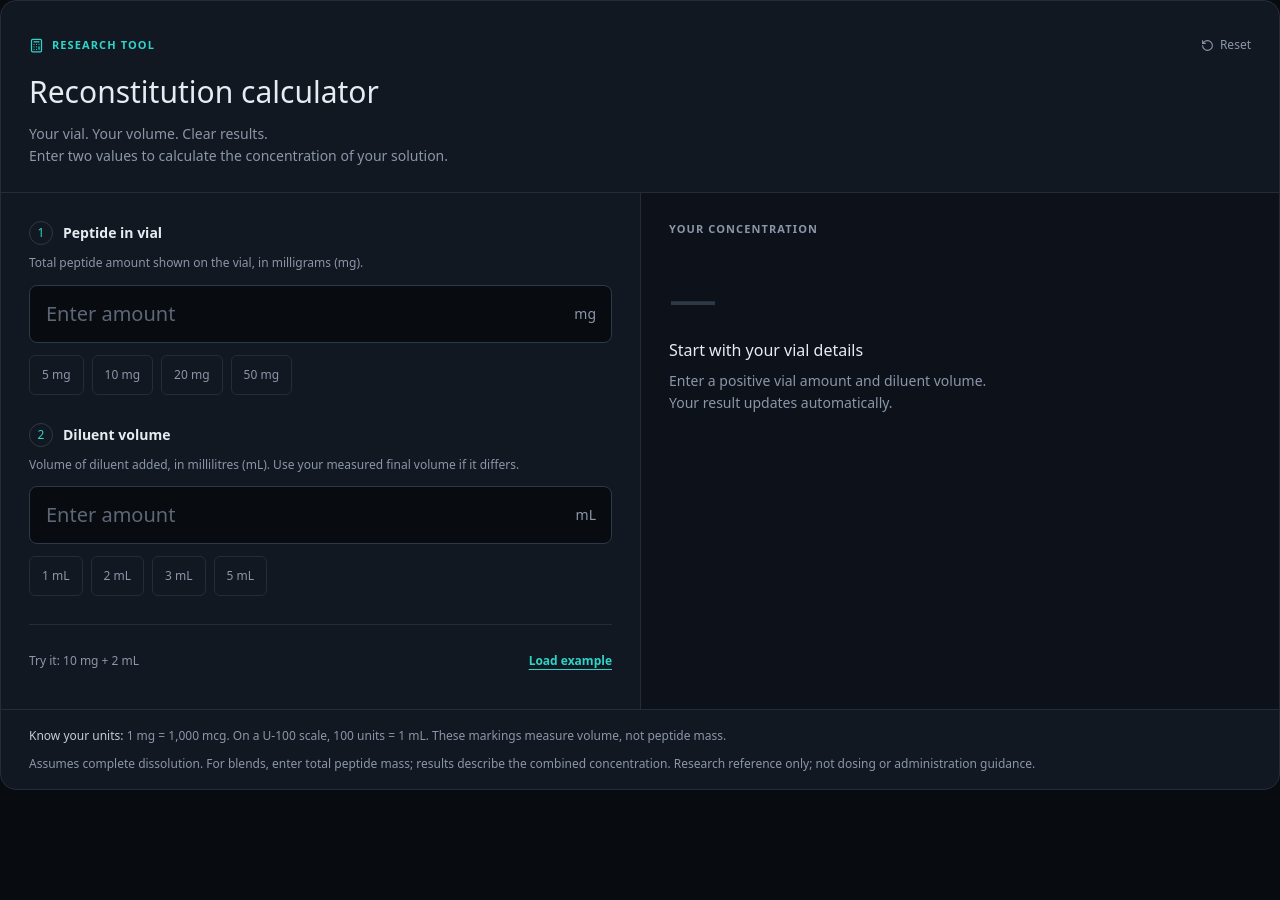
Scenario: loads the labelled example, supports presets, and resets every input
Click the button "Load example": (570, 661) [529,641,612,681]
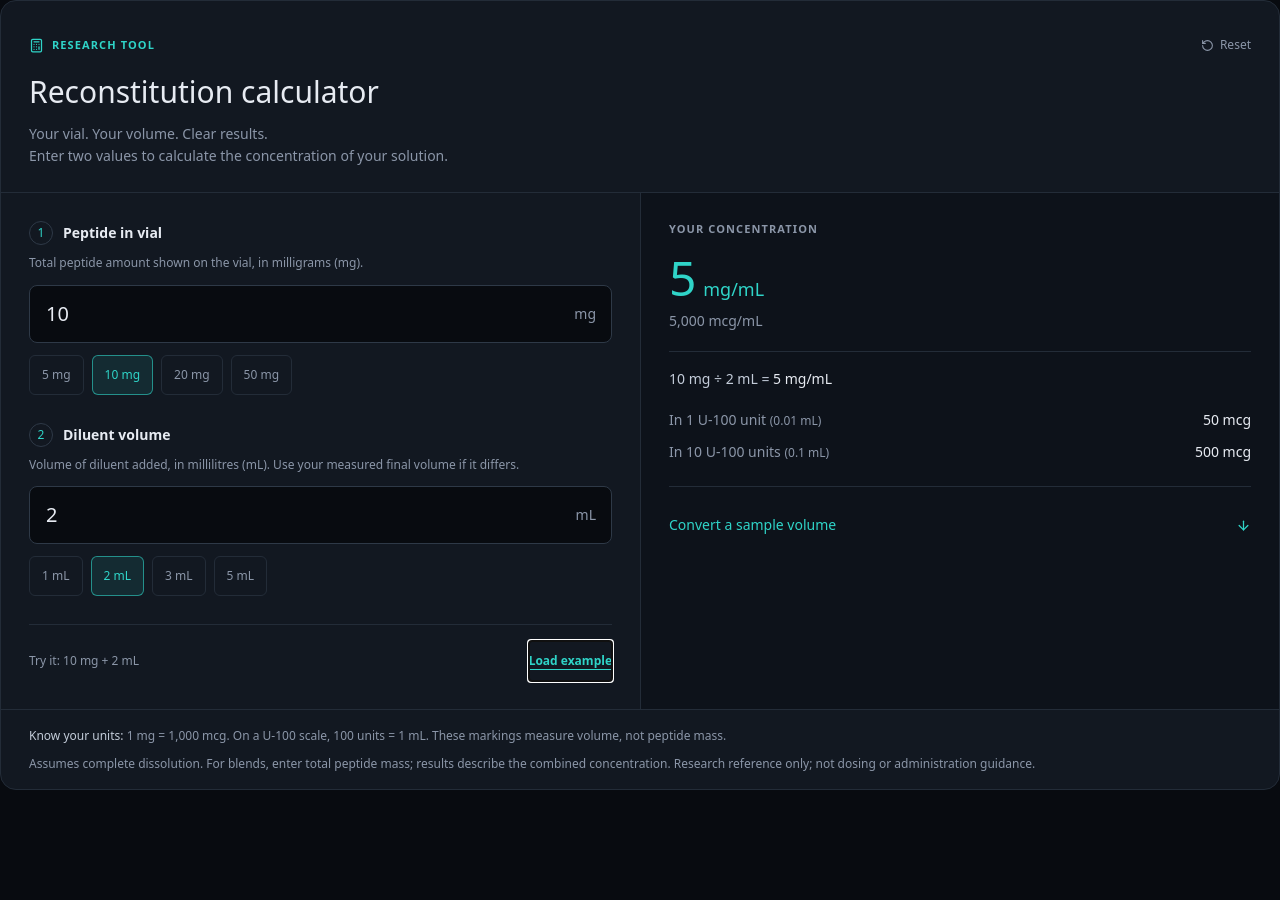
expect the element named "Concentration result" reads "5 mg/mL": met, box [669,244,764,310]
Click the button "5 mg": (56, 374) [29,354,84,394]
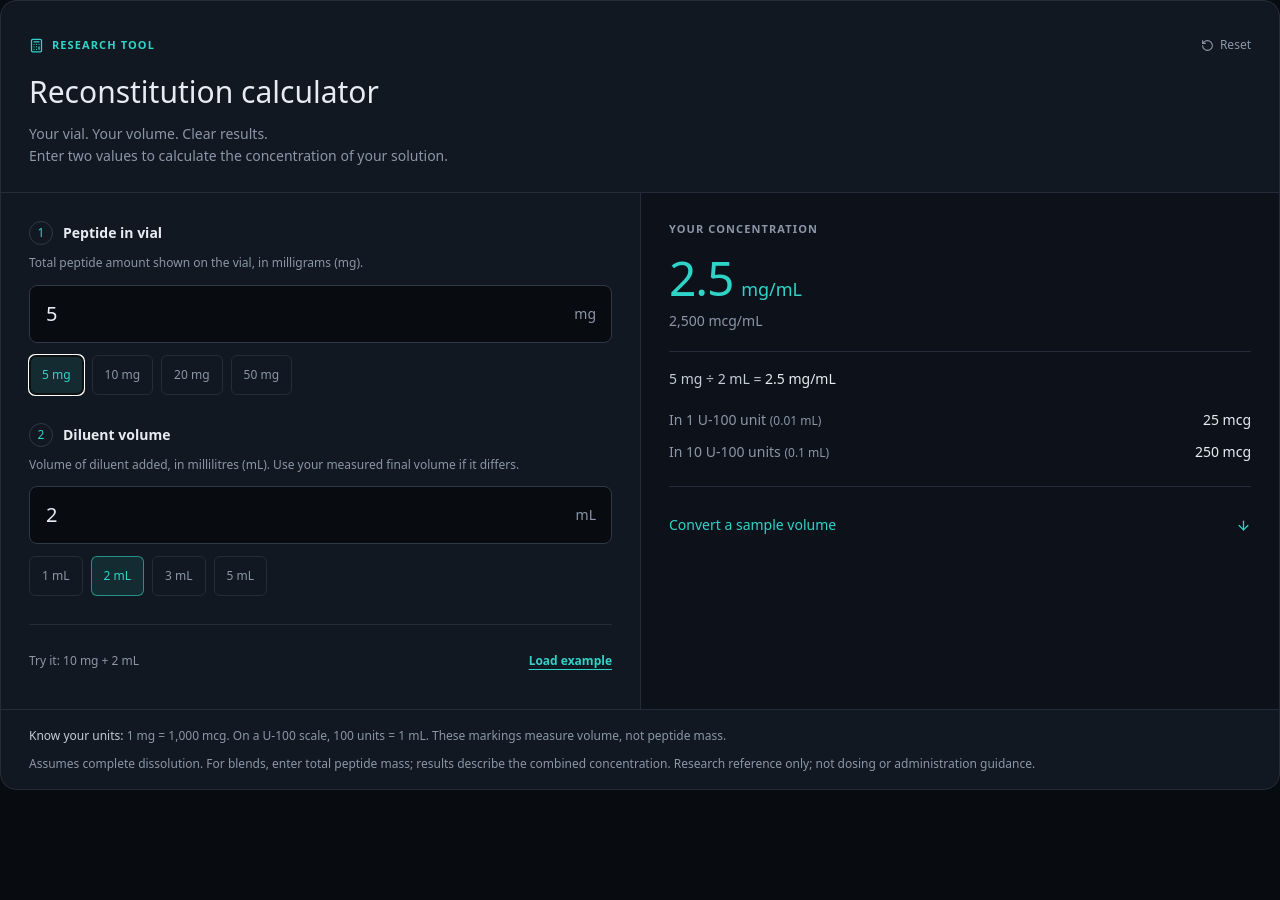
expect the element named "Concentration result" reads "2.5 mg/mL": met, box [669,244,802,310]
Click the button "Reset": (1226, 45) [1201,25,1251,65]
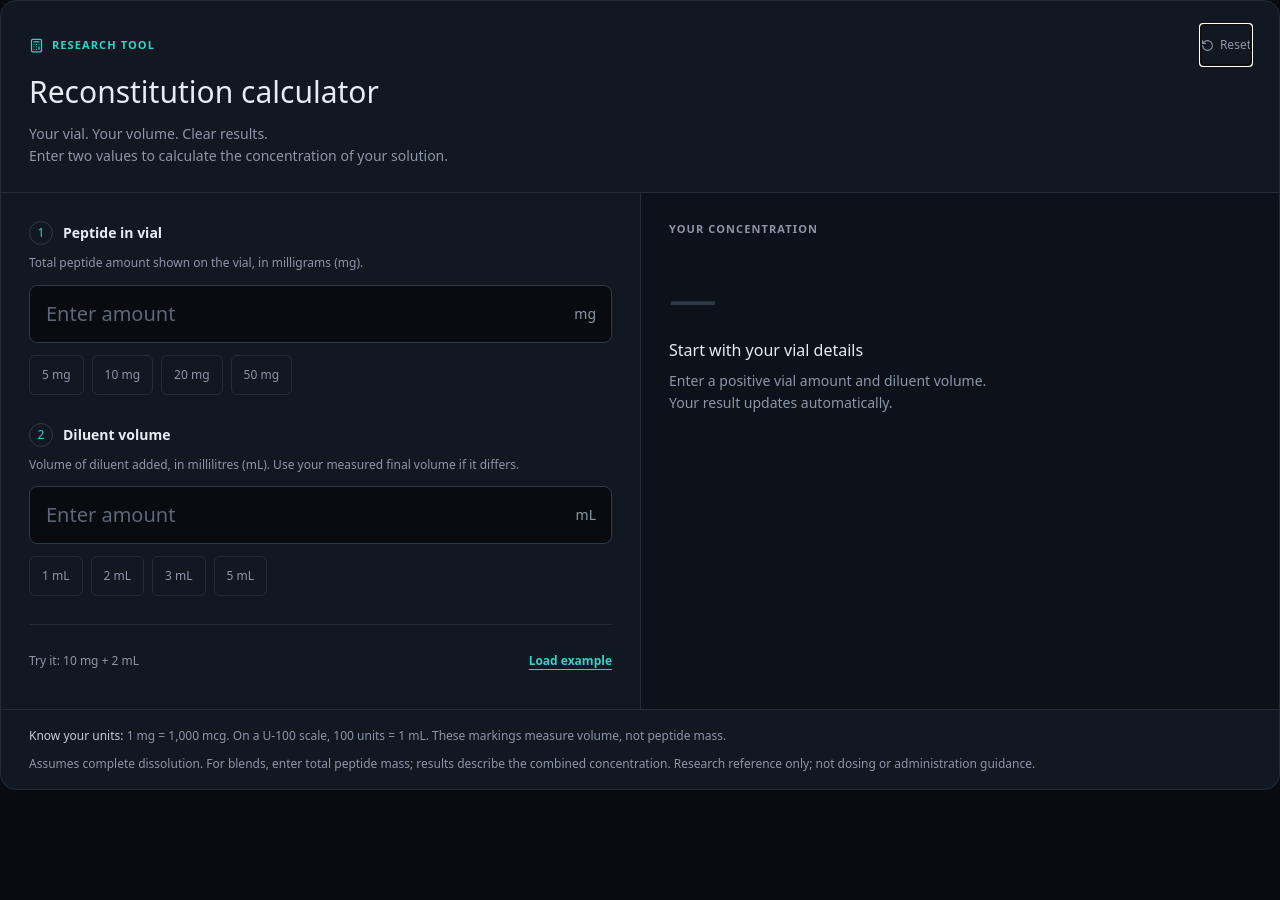
expect the field labelled "Peptide in vial" is empty: met, box [29,284,612,342]
expect the field labelled "Diluent volume" is empty: met, box [29,486,612,544]
